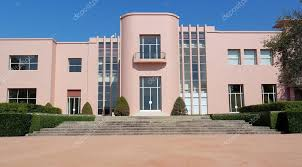serralves: (0, 11, 301, 116)
